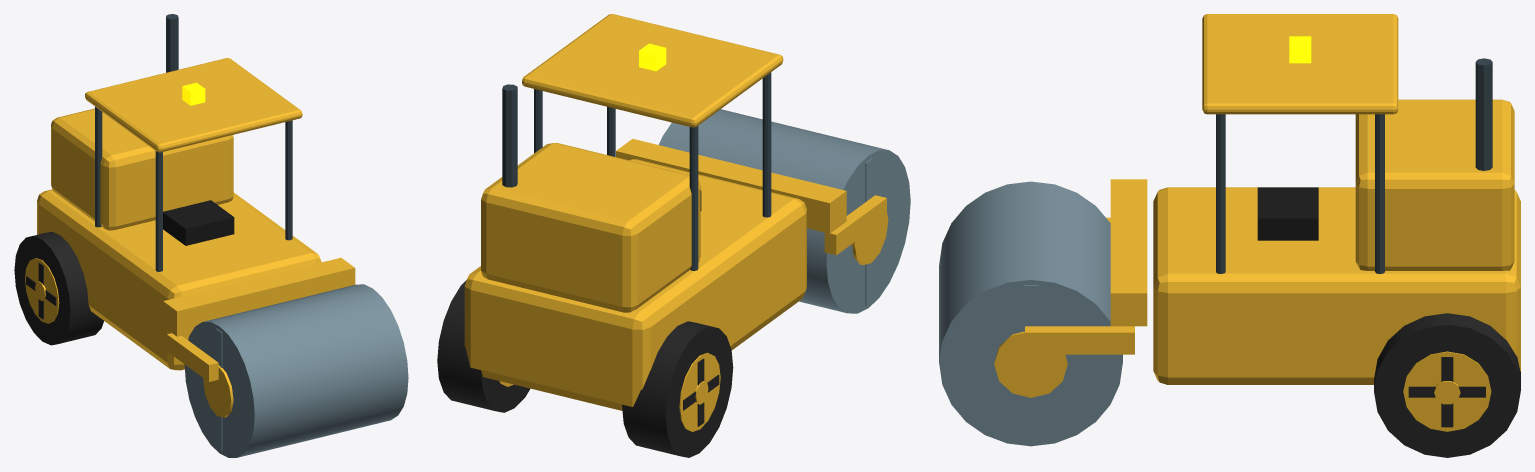
Rendered from foot_dozer.glb.
3 views of the same model, side by side, from view 1: azimuth 30°, elevation 25°; view 2: azimuth 150°, elevation 25°; view 3: azimuth 270°, elevation 25° (orthographic). The views are drawn at different scales.
Visible parts, largest first — view 1: FootDozer_body, Wheel_F, Wheel_RR.002; view 2: FootDozer_body, Wheel_F, Wheel_RR.002, Wheel_RL.002; view 3: FootDozer_body, Wheel_F, Wheel_RL.002.
Boxes of the visible parts, x1,y1,x2,y2 form: FootDozer_body: (37, 14, 355, 381); Wheel_F: (184, 284, 408, 457); Wheel_RR.002: (14, 231, 103, 345); FootDozer_body: (464, 14, 886, 410); Wheel_F: (658, 109, 910, 313); Wheel_RR.002: (622, 321, 733, 457); Wheel_RL.002: (437, 280, 529, 412); FootDozer_body: (1025, 14, 1520, 384); Wheel_F: (939, 181, 1122, 446); Wheel_RL.002: (1374, 313, 1520, 457).
Size of the model in its own units: 2.41 by 3.3 by 4.75.
